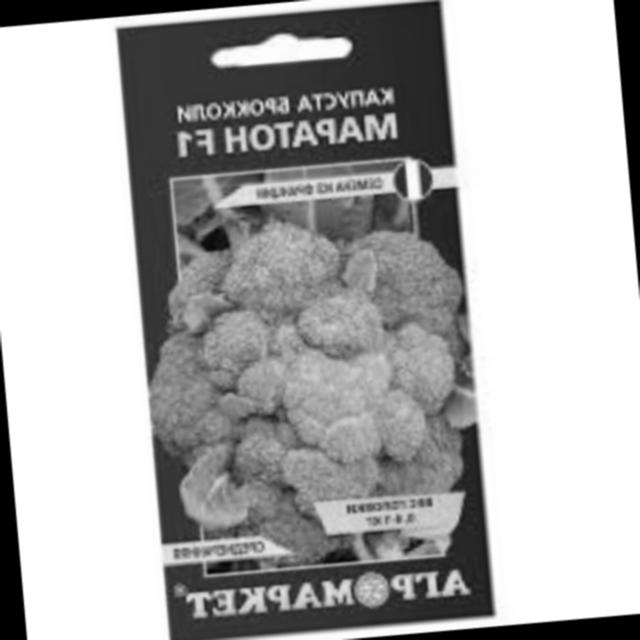bong cai xanh: (162, 210, 458, 536)
